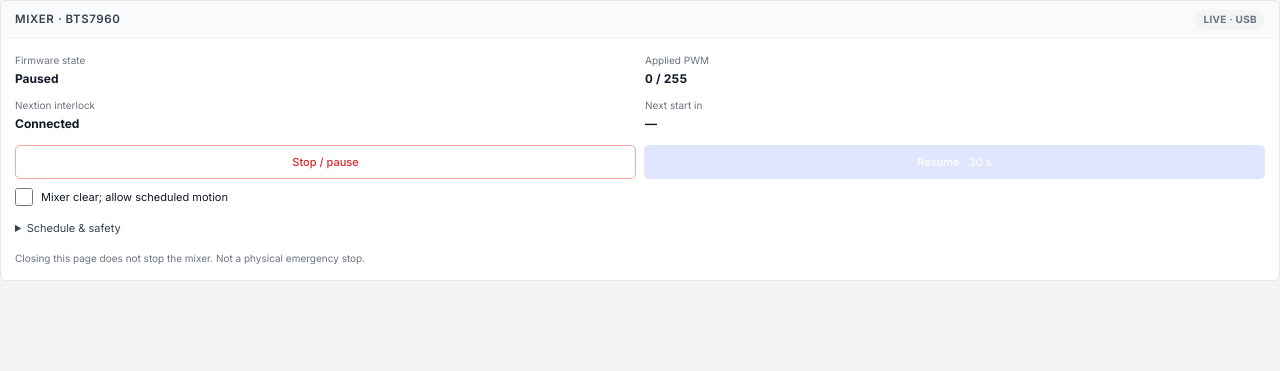
Test: compact layout retains confirmation, immediate STOP and visible warnings outside details
Expected: the button "Resume · 30 s" is disabled, [644,145,1265,179]
Click the checkbox labelled "Mixer clear; allow scheduled motion" at (24, 197), box [15,188,33,206]
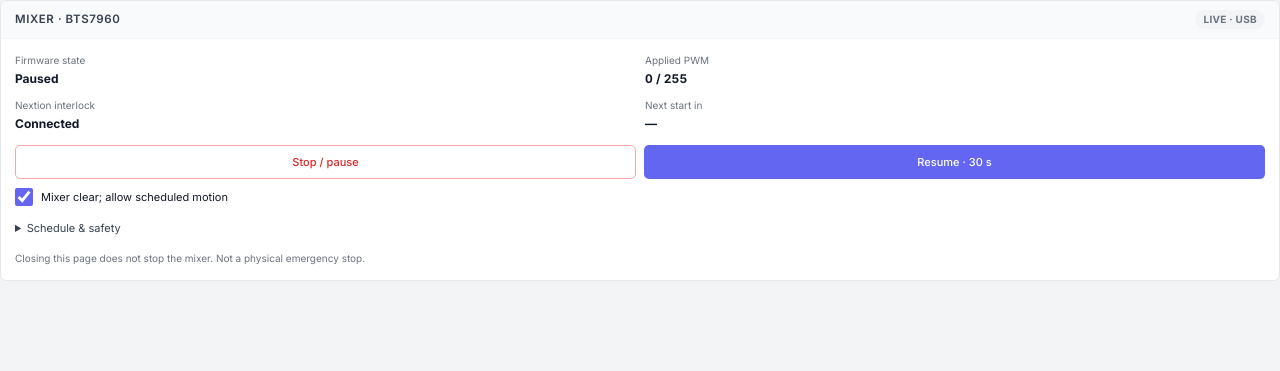
Click the button "Resume · 30 s" at (954, 162), box [644,145,1265,179]
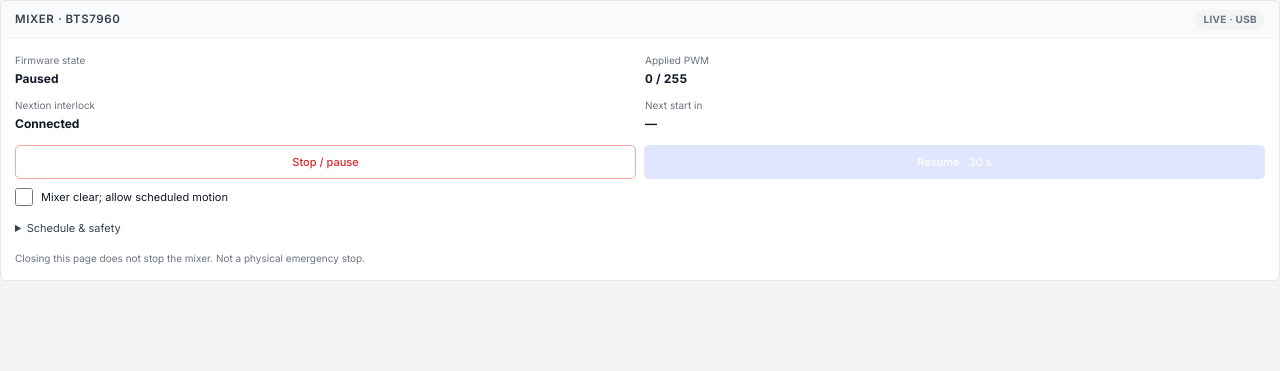
Click the button "Stop / pause" at (326, 162), box [15,145,636,179]
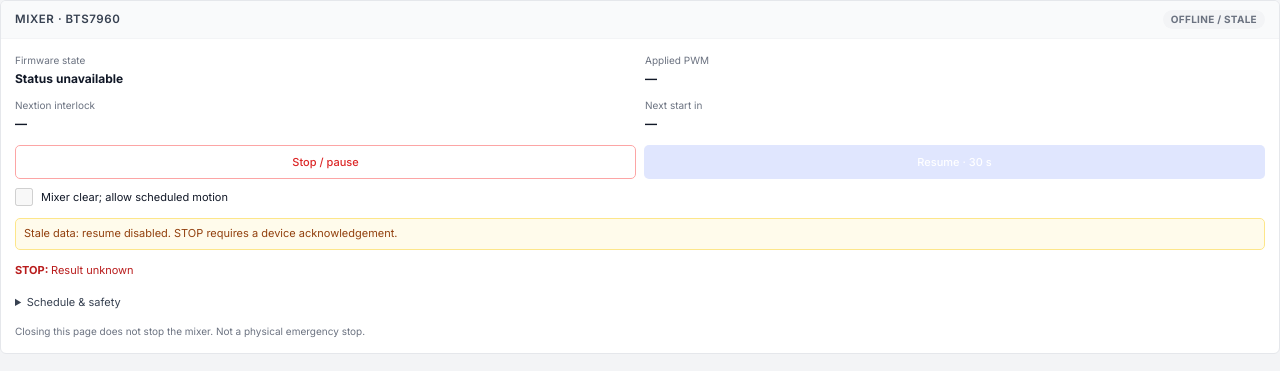
Expected: the text with class "mixer-safety" shows "Not a physical emergency stop", [15,325,365,337]
Expected: the message "STOP: Result unknown" is shown, [15,263,134,277]
